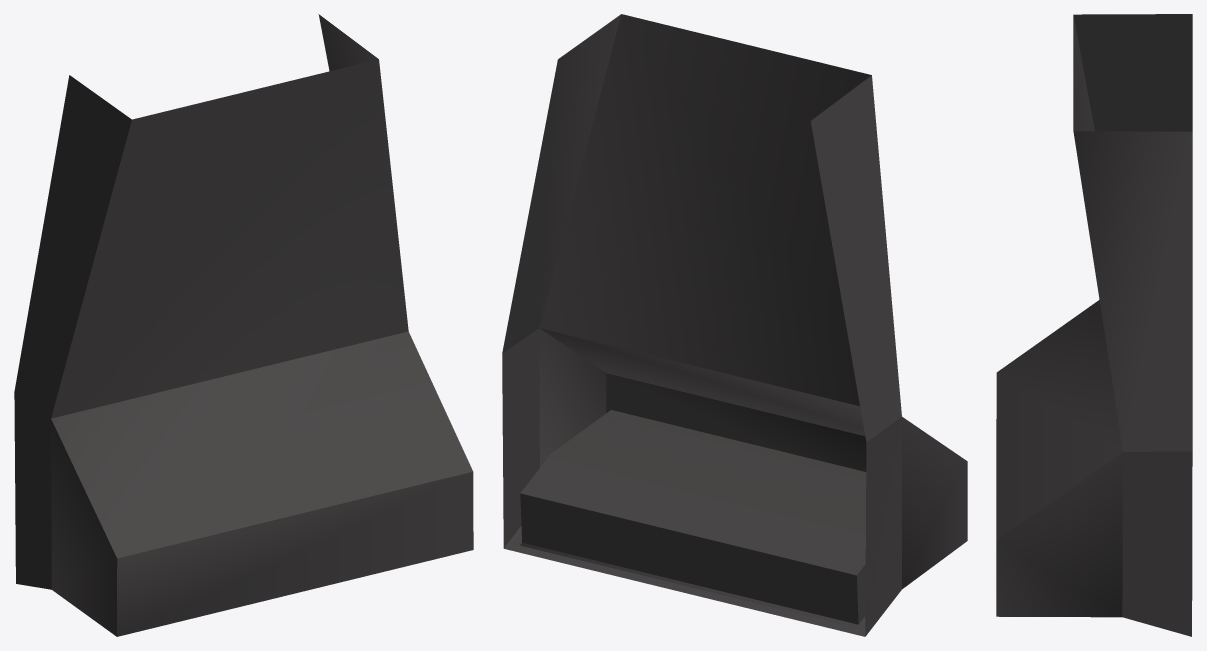
The model's file is Kitchen_Chimney.FBX.
The picture shows the model from 3 angles, left to right: view 1: azimuth 30°, elevation 25°; view 2: azimuth 150°, elevation 25°; view 3: azimuth 270°, elevation 25°; orthographic projection. The views are drawn at different scales.
Parts seen in each view (by area): view 1: Kitchen_chimney; view 2: Kitchen_chimney; view 3: Kitchen_chimney.
Boxes of the visible parts, x1,y1,x2,y2 form: Kitchen_chimney: (14,14,473,636); Kitchen_chimney: (502,14,967,636); Kitchen_chimney: (996,14,1192,636).
Size of the model in its own units: 0.7883 by 1.04 by 0.3851.
